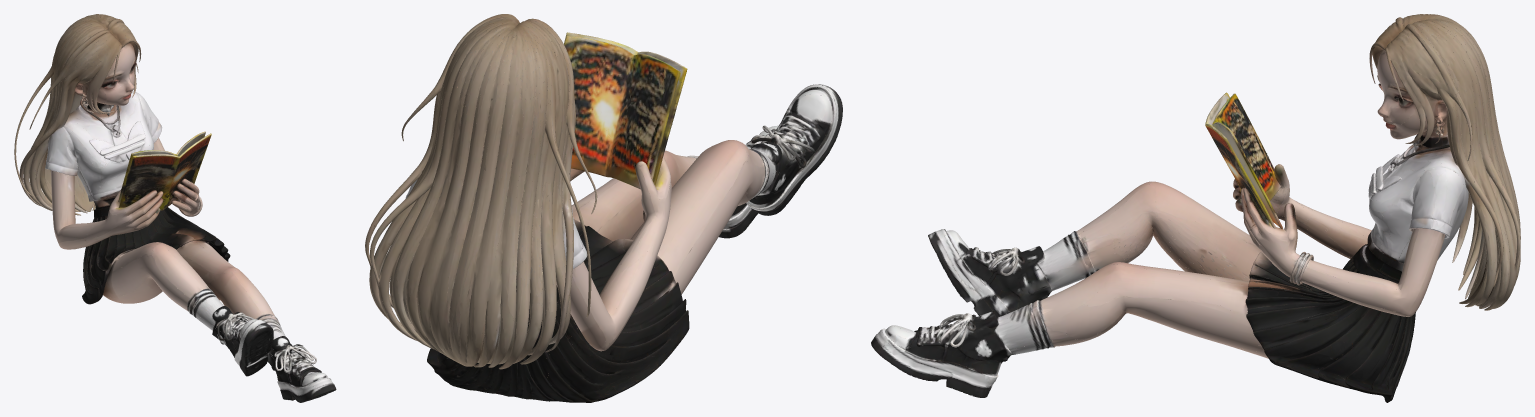
File: blog-character-reader-web-6cb1fdb4.glb
3 renders of one model, left to right at view 1: azimuth 30°, elevation 25°; view 2: azimuth 150°, elevation 25°; view 3: azimuth 270°, elevation 25°, orthographic. The views are drawn at different scales.
Visible parts, largest first — view 1: Y2K_Reader_Character_Optimized; view 2: Y2K_Reader_Character_Optimized; view 3: Y2K_Reader_Character_Optimized.
Part boxes in pixels (left/top/right/bottom): Y2K_Reader_Character_Optimized: left=14, top=14, right=336, bottom=402; Y2K_Reader_Character_Optimized: left=365, top=14, right=842, bottom=402; Y2K_Reader_Character_Optimized: left=871, top=14, right=1520, bottom=402.
Bounding box in the file's own units: 0.3742 × 0.6641 × 1.09.
Materials: 1 (1 with a texture image).
